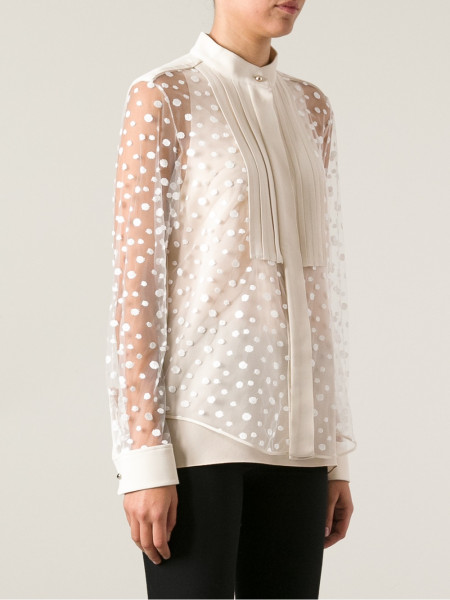C_blouse: (92, 33, 368, 495)
F_W_pants: (124, 450, 354, 600)
